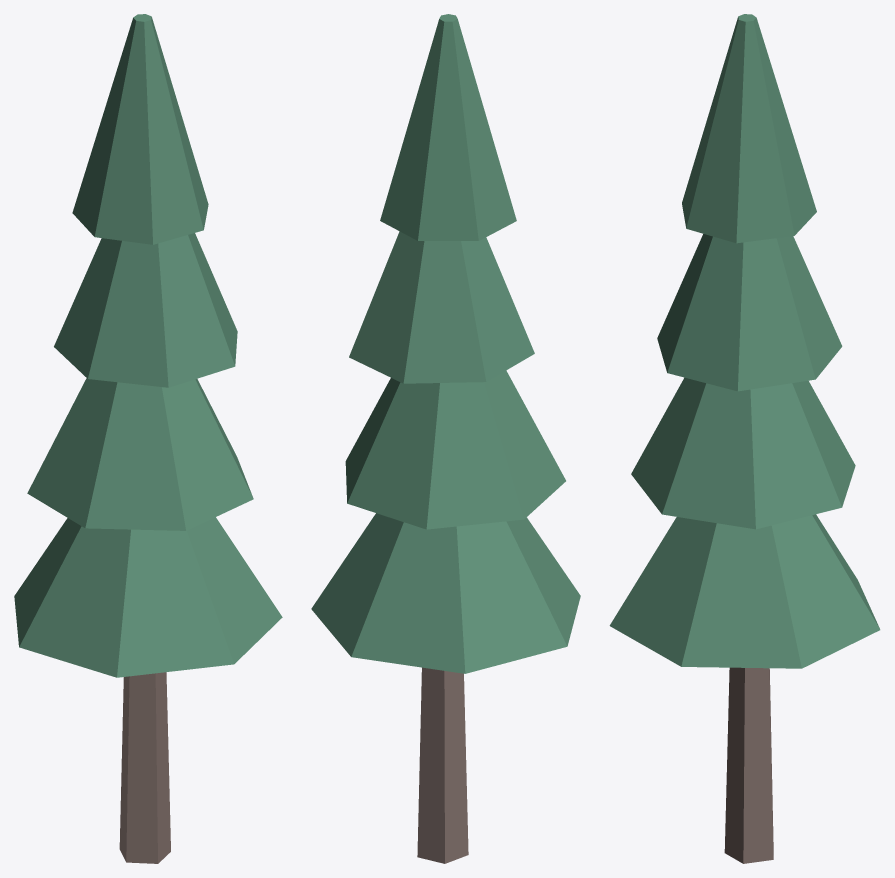
File: arv_pinheiro_3_sem_textura.glb
3 views of the same model, side by side, from view 1: azimuth 30°, elevation 25°; view 2: azimuth 150°, elevation 25°; view 3: azimuth 270°, elevation 25° (orthographic).
Visible parts, largest first — view 1: arv_pinheiro_3; view 2: arv_pinheiro_3; view 3: arv_pinheiro_3.
Boxes of the visible parts, <box> form: arv_pinheiro_3: <box>14,14,282,863</box>; arv_pinheiro_3: <box>311,14,580,863</box>; arv_pinheiro_3: <box>609,14,880,863</box>.
Bounding box in the file's own units: 0.8384 × 2.89 × 0.853.
